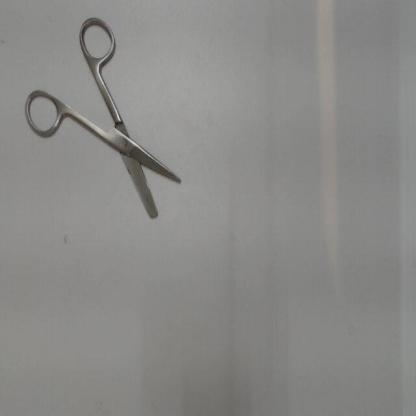Dressing Scissors: (16, 9, 188, 234)
